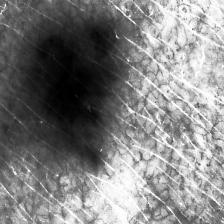Benign Marking or Mole: (20, 24, 127, 163)
